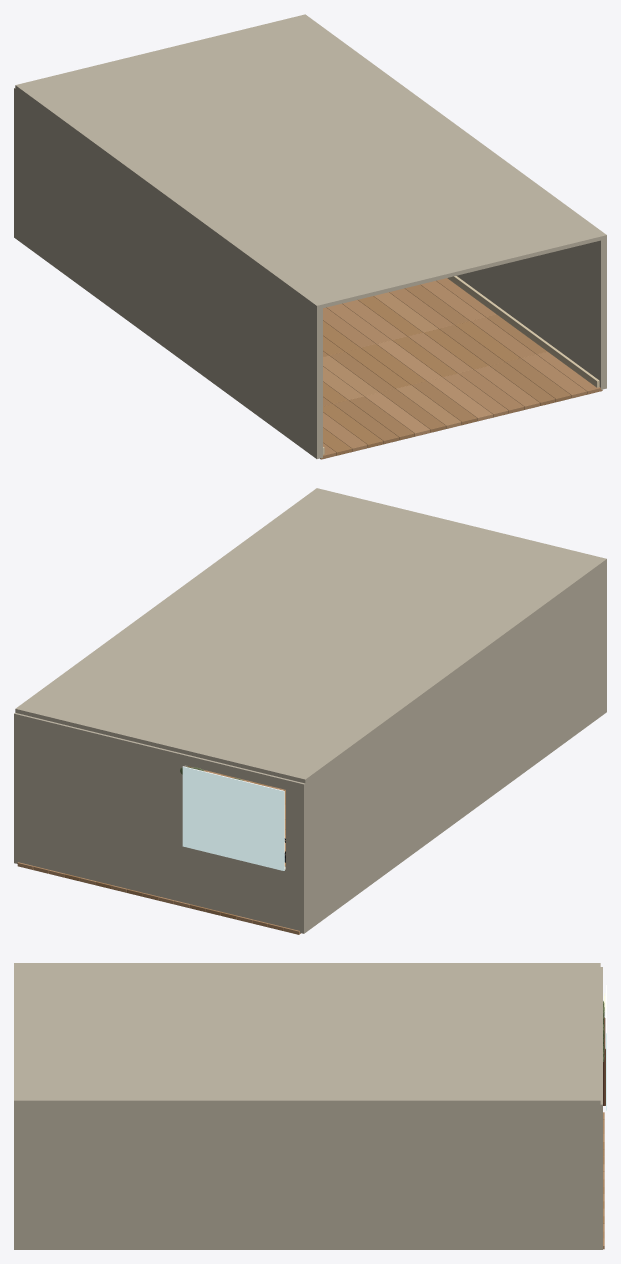
The model's file is room.glb.
3 views of the same model, one above another, from view 1: azimuth 30°, elevation 25°; view 2: azimuth 150°, elevation 25°; view 3: azimuth 270°, elevation 25° (orthographic). The views are drawn at different scales.
Parts seen in each view (by area): view 1: Ceiling, Left wall, Right wall, Side skirting.001, Floorboard 06 0, Floorboard 15 0, Floorboard 09 0, Floorboard 12 0, Floorboard 04 0, Floorboard 07 0, Floorboard 10 0, Floorboard 14 0 (+28 smaller); view 2: Ceiling, Left wall, Back wall below window, Back wall right of window, WindowSky_NoShadow, Back wall above window, Back wall left of window; view 3: Right wall, Ceiling, Back wall right of window, Back wall above window.
Part boxes in pixels (x1=…): Ceiling: x1=15, y1=14, x2=606, y2=309; Left wall: x1=15, y1=89, x2=322, y2=458; Right wall: x1=456, y1=239, x2=606, y2=389; Side skirting.001: x1=447, y1=276, x2=599, y2=387; Floorboard 06 0: x1=364, y1=392, x2=430, y2=436; Floorboard 15 0: x1=505, y1=358, x2=571, y2=402; Floorboard 09 0: x1=412, y1=381, x2=477, y2=425; Floorboard 12 0: x1=458, y1=369, x2=524, y2=413; Floorboard 04 0: x1=333, y1=400, x2=398, y2=444; Floorboard 07 0: x1=380, y1=389, x2=445, y2=432; Floorboard 10 0: x1=427, y1=377, x2=492, y2=421; Floorboard 14 0: x1=490, y1=362, x2=555, y2=405; Ceiling: x1=15, y1=488, x2=606, y2=783; Left wall: x1=305, y1=563, x2=606, y2=932; Back wall below window: x1=14, y1=803, x2=307, y2=933; Back wall right of window: x1=14, y1=723, x2=187, y2=844; WindowSky_NoShadow: x1=182, y1=766, x2=284, y2=870; Back wall above window: x1=14, y1=713, x2=307, y2=793; Back wall left of window: x1=286, y1=790, x2=307, y2=873; Right wall: x1=14, y1=1104, x2=600, y2=1249; Ceiling: x1=14, y1=963, x2=600, y2=1104; Back wall right of window: x1=596, y1=1114, x2=602, y2=1191; Back wall above window: x1=596, y1=967, x2=602, y2=1113.
Bounding box in the file's own units: 7.72 × 3.94 × 14.05.
